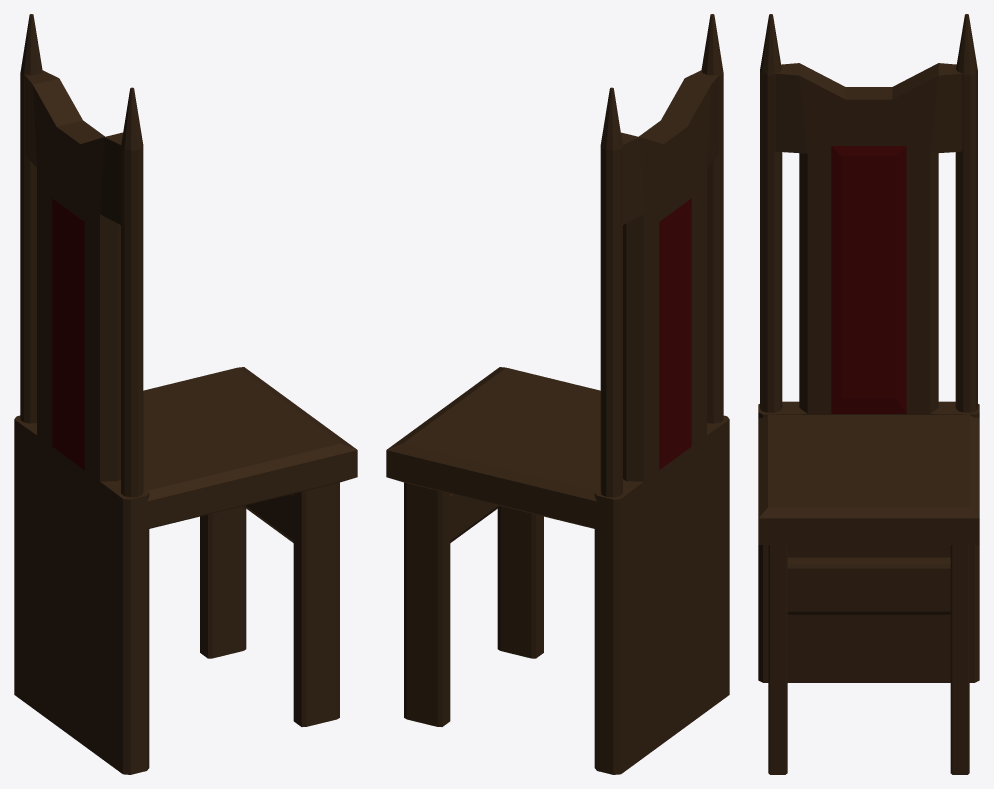
The model's file is Chair_001.fbx.
3 views of the same model, side by side, from view 1: azimuth 30°, elevation 25°; view 2: azimuth 150°, elevation 25°; view 3: azimuth 270°, elevation 25° (orthographic). The views are drawn at different scales.
Parts seen in each view (by area): view 1: chair_001; view 2: chair_001; view 3: chair_001.
Part boxes in pixels (<box>): chair_001: <box>14,14,357,774</box>; chair_001: <box>386,14,729,774</box>; chair_001: <box>758,14,979,774</box>.
Bounding box in the file's own units: 50.52 × 141 × 42.83.
